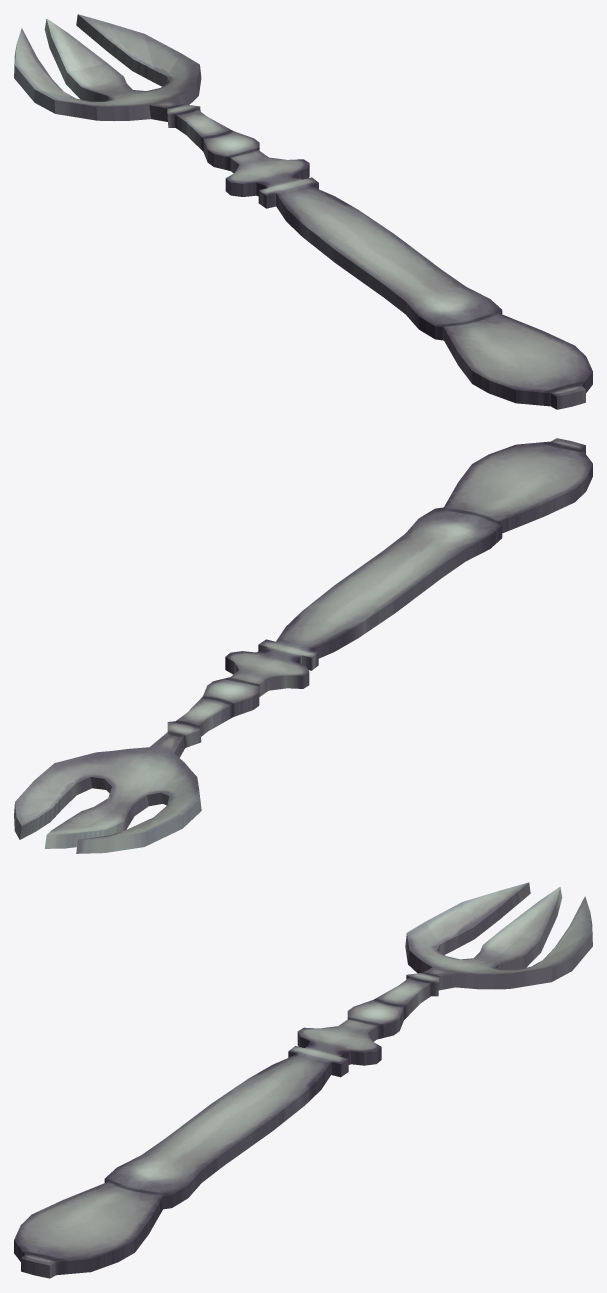
The model's file is Lv1_Tenedor2.fbx.
3 views of the same model, one above another, from view 1: azimuth 30°, elevation 25°; view 2: azimuth 150°, elevation 25°; view 3: azimuth 330°, elevation 25° (orthographic).
Parts seen in each view (by area): view 1: Lv1_Tenedor2; view 2: Lv1_Tenedor2; view 3: Lv1_Tenedor2.
Part boxes in pixels (<box>): Lv1_Tenedor2: <box>14,14,592,409</box>; Lv1_Tenedor2: <box>14,438,592,853</box>; Lv1_Tenedor2: <box>14,882,592,1278</box>.
Size of the model in its own units: 1.85 by 0.5546 by 11.44.
1 material, 1 textured.
